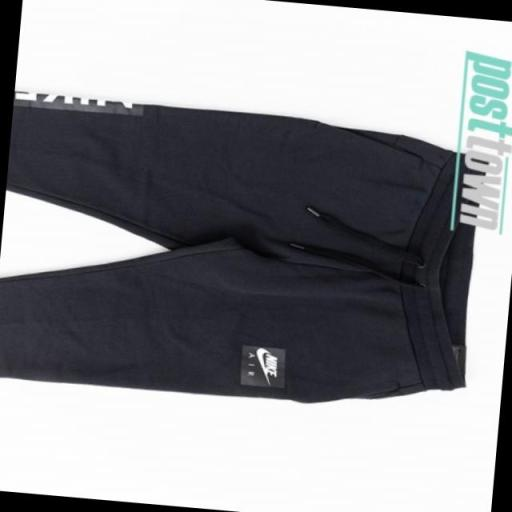Nike: (252, 345, 269, 385), (264, 352, 278, 378)
